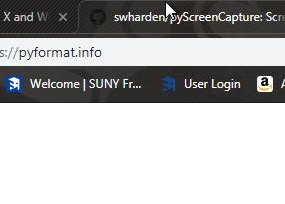cursor: (163, 1, 178, 21)
